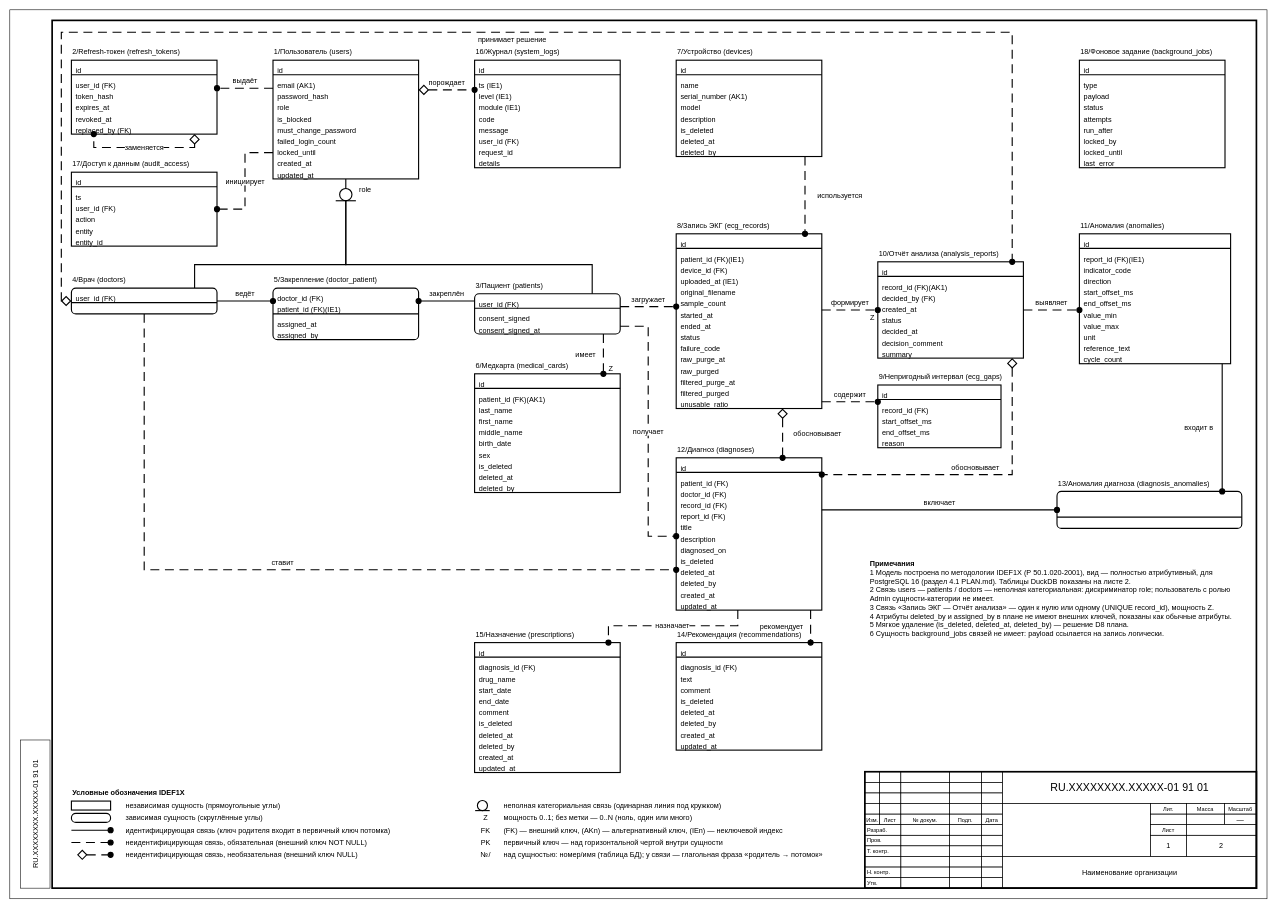
Some shapes in this 1277 by 909 pixel diagram are drawn without their labels. The shapes that lost their labels are listed below. From the top down, each one's centre as x and y in pixels, then its label:
At point (1149, 510): "diagnosis_id (FK) anomaly_id (FK)".
At point (1076, 829): "СА-ЭКГ Схема данных Модель IDEF1X".
At point (1221, 829): "Листов".
